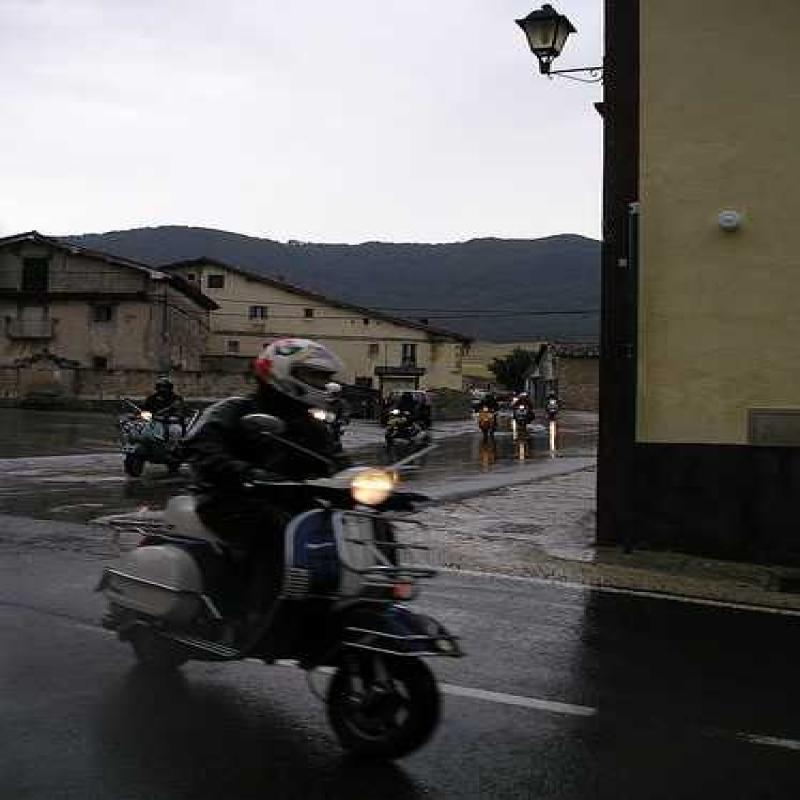bike: (121, 444, 484, 768)
